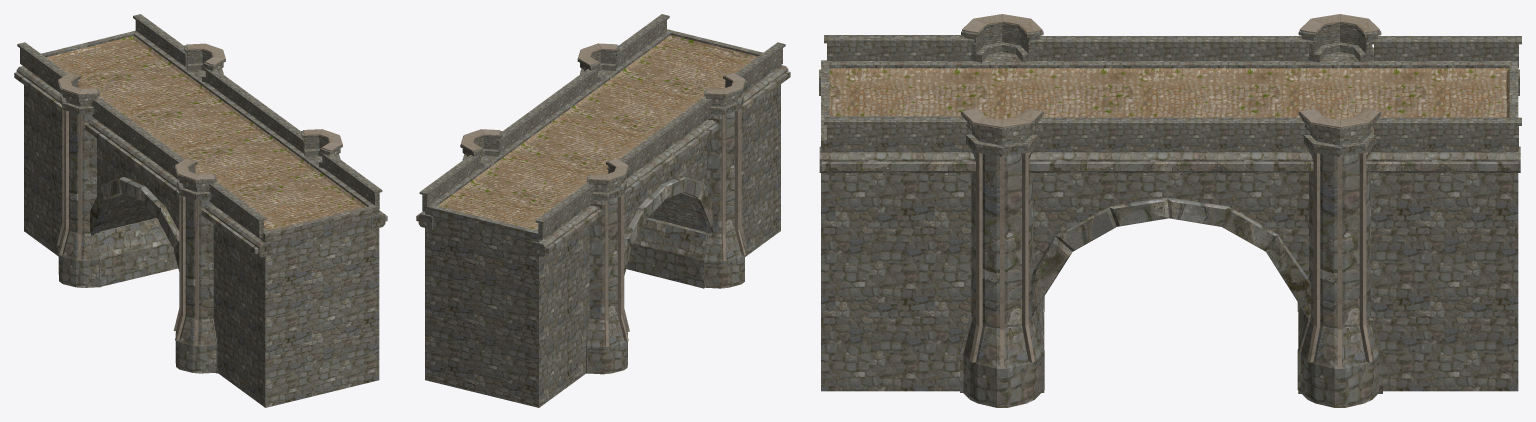
The model's file is StoneBridge.fbx.
3 renders of one model, left to right at view 1: azimuth 30°, elevation 25°; view 2: azimuth 150°, elevation 25°; view 3: azimuth 270°, elevation 25°, orthographic. The views are drawn at different scales.
Parts seen in each view (by area): view 1: Cube.056; view 2: Cube.056; view 3: Cube.056.
Part boxes in pixels (x1,y1,x2,y2): Cube.056: (14, 14, 387, 407); Cube.056: (416, 14, 790, 407); Cube.056: (819, 14, 1521, 407).
Size of the model in its own units: 861 by 962 by 2177.
